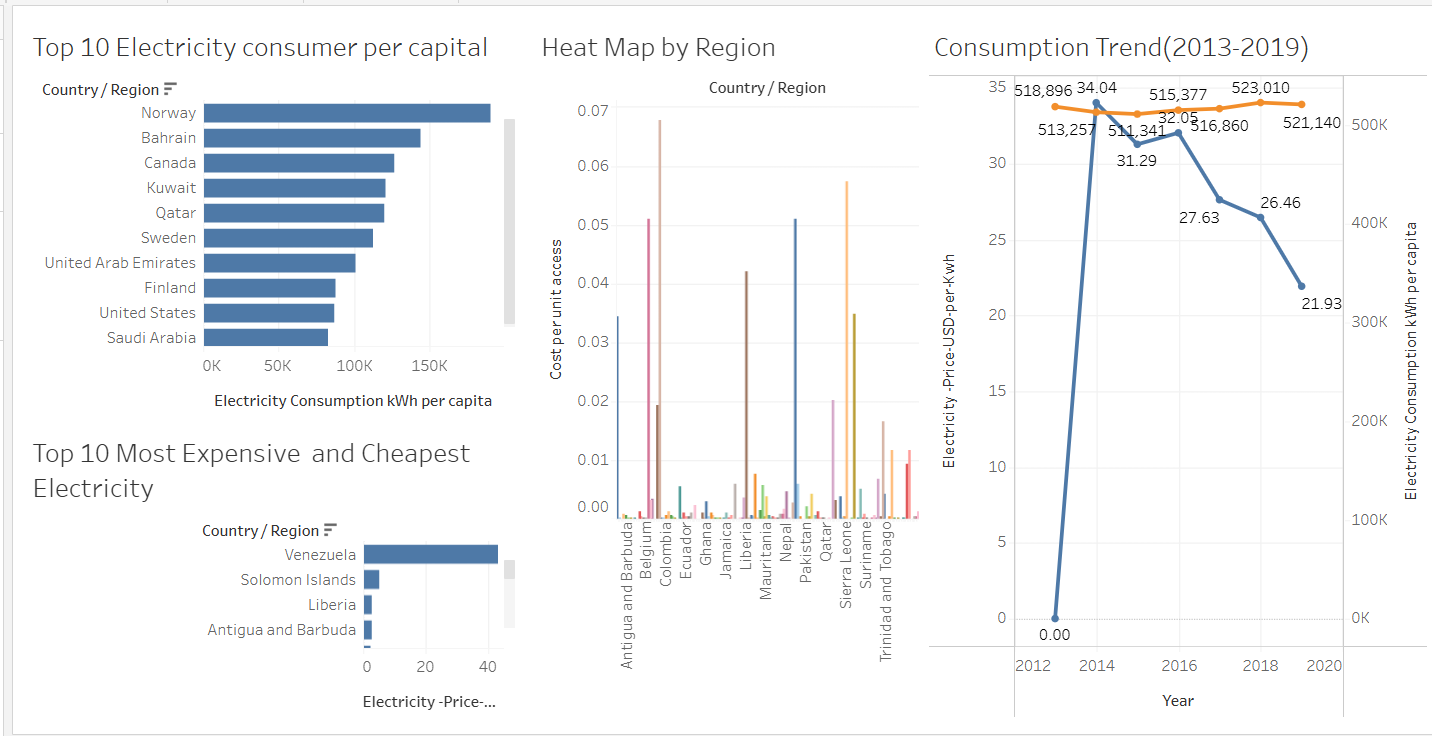

This screenshot's page, from the dashboard's own definition file:
{"tool":"tableau","page":{"name":"Dashboard 1","canvas":[1000,1000],"units":"permille","ordinal":0},"visuals":[{"type":"worksheet","title":"Top 10 Electricity consumer per capital","mark":"Automatic","rows":["Country / Region"],"cols":["Electricity_Consumption_kWh_per_capita"],"box":[6.1,13.8,311.9,558.4]},{"type":"worksheet","title":"Heat Map by Region","mark":"Automatic","rows":["Calculation_14144169132322858"],"cols":["Country / Region"],"box":[318,13.8,240.6,972.5]},{"type":"worksheet","title":"Consumption Trend(2013-2019)","mark":"Automatic","rows":["Electricity -Price-USD-per-Kwh","Electricity_Consumption_kWh_per_capita"],"cols":["Year"],"box":[558.6,13.8,312.7,972.5]},{"type":"filter","title":"Consumption Trend(2013-2019)","param":"[federated.1k16gt919m6gp71bvcxtq1b0rtf8].[none:Country / Region:nk]","box":[871.3,13.8,122.6,368.6]},{"type":"legend","title":"Consumption Trend(2013-2019)","param":"[federated.1k16gt919m6gp71bvcxtq1b0rtf8].[:Measure Names]","box":[871.3,382.3,122.6,115.1]},{"type":"filter","title":"Top 10 Electricity consumer per capital","param":"[federated.1k16gt919m6gp71bvcxtq1b0rtf8].[max:Electricity_Consumption_kWh_per_ca","box":[871.3,497.4,122.6,120.3]},{"type":"worksheet","title":"Top 10 Most Expensive  and Cheapest Electricity","mark":"Automatic","rows":["Country / Region"],"cols":["Electricity -Price-USD-per-Kwh"],"box":[6.1,572.1,311.9,414.1]},{"type":"legend","title":"Heat Map by Region","param":"[federated.1k16gt919m6gp71bvcxtq1b0rtf8].[none:Country / Region:nk]","box":[871.3,617.7,122.6,368.6]}]}

Visuals, with their boxes on the dashboard's canvas, which has no fixed pixel size, in thousandths of its width and height (x1, y1, x2, y2). These are canvas units, not pixel positions in the 1432x736 screenshot, which may show the page scaled, cropped or inside an application window:
"Top 10 Electricity consumer per capital" worksheet: bbox(6, 14, 318, 572)
"Heat Map by Region" worksheet: bbox(318, 14, 559, 986)
"Consumption Trend(2013-2019)" worksheet: bbox(559, 14, 871, 986)
"Consumption Trend(2013-2019)" filter: bbox(871, 14, 994, 382)
"Consumption Trend(2013-2019)" legend: bbox(871, 382, 994, 497)
"Top 10 Electricity consumer per capital" filter: bbox(871, 497, 994, 618)
"Top 10 Most Expensive  and Cheapest Electricity" worksheet: bbox(6, 572, 318, 986)
"Heat Map by Region" legend: bbox(871, 618, 994, 986)
